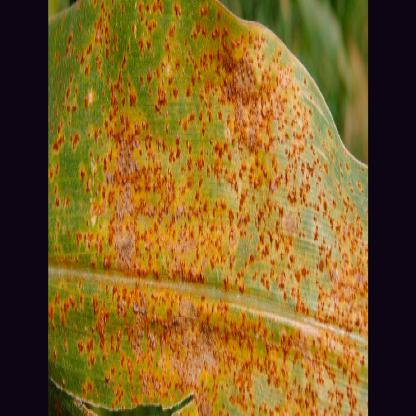corn rust leaf: (49, 5, 367, 415)
